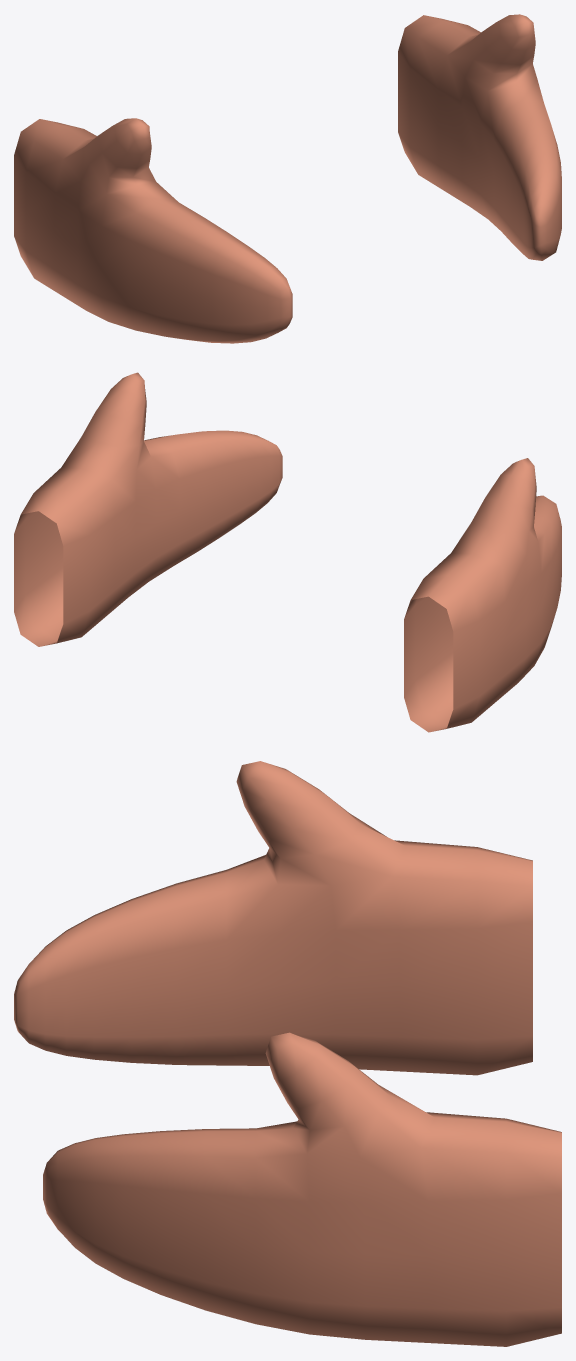
The model's file is Hand.fbx.
The picture shows the model from 3 angles, top to bottom: view 1: azimuth 30°, elevation 25°; view 2: azimuth 150°, elevation 25°; view 3: azimuth 270°, elevation 25°; orthographic projection. The views are drawn at different scales.
Visible parts, largest first — view 1: rıght_hand, left_hand; view 2: left_hand, rıght_hand; view 3: left_hand, rıght_hand.
Boxes of the visible parts, x1,y1,x2,y2 form: rıght_hand: (14,118,292,343); left_hand: (398,14,561,260); left_hand: (14,372,282,646); rıght_hand: (404,458,561,732); left_hand: (43,1032,561,1346); rıght_hand: (14,761,532,1075).
Size of the model in its own units: 5.92 by 2.71 by 4.32.
1 material, 1 textured.
